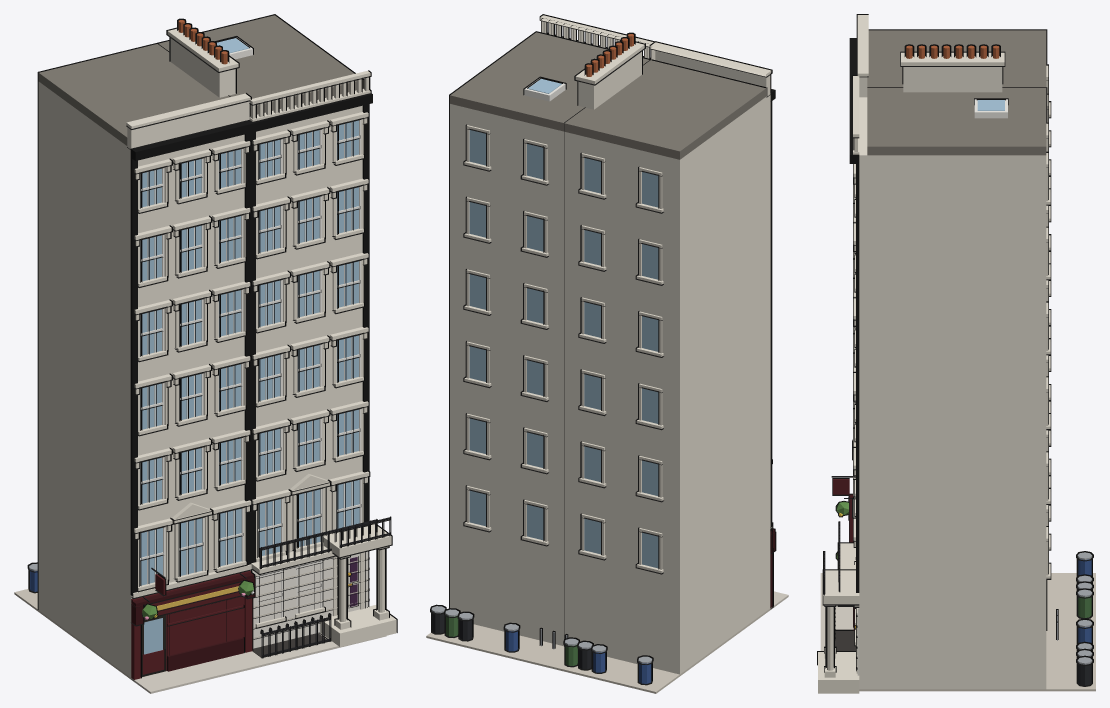
File: Blok_duz_7k_6.fbx
The picture shows the model from 3 angles, left to right: view 1: azimuth 30°, elevation 25°; view 2: azimuth 150°, elevation 25°; view 3: azimuth 270°, elevation 25°; orthographic projection. The views are drawn at different scales.
Visible parts, largest first — view 1: Blok_duz_7k_6; view 2: Blok_duz_7k_6; view 3: Blok_duz_7k_6.
Part boxes in pixels (box(x1,y1,x2,y2)): Blok_duz_7k_6: box(14, 14, 397, 693); Blok_duz_7k_6: box(426, 14, 788, 693); Blok_duz_7k_6: box(817, 14, 1095, 693).
Size of the model in its own units: 10.45 by 23.52 by 10.13.
